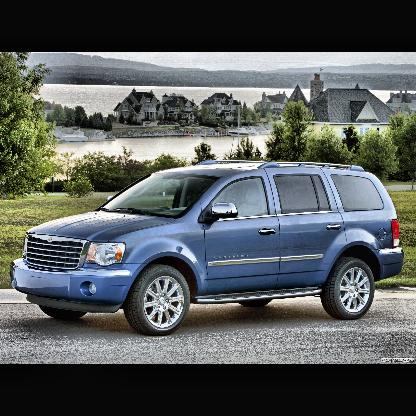Chrysler Aspen SUV 2009: (9, 157, 405, 337)
